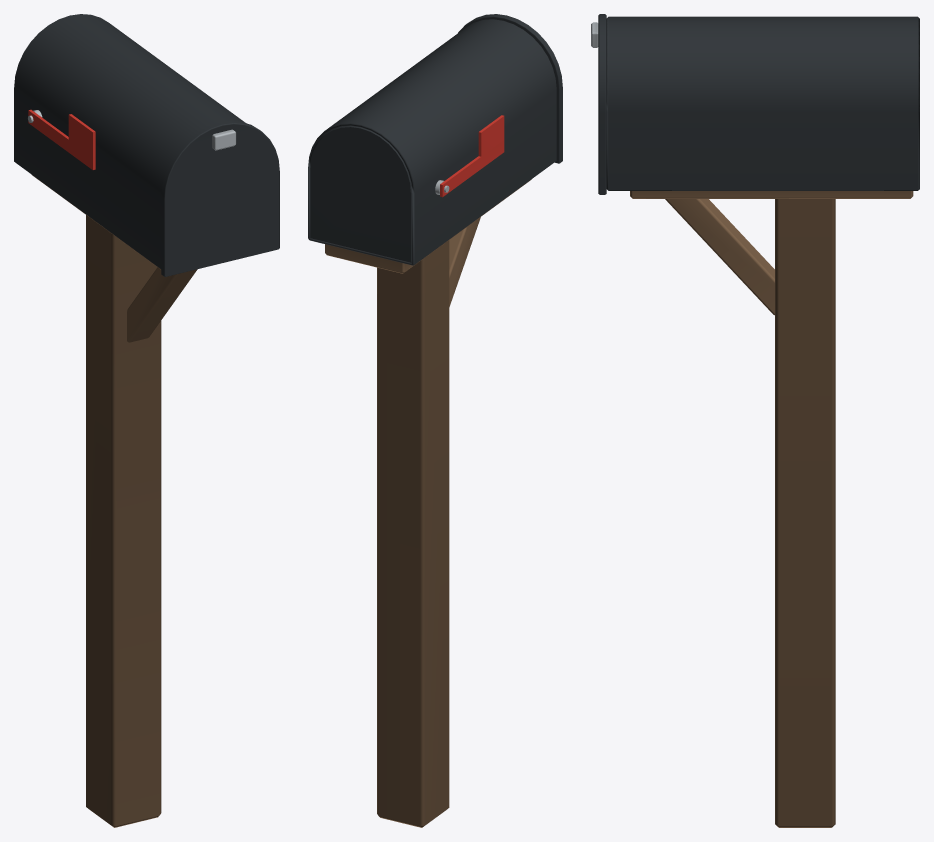
Rendered from letterbox.glb.
3 renders of one model, left to right at view 1: azimuth 30°, elevation 25°; view 2: azimuth 150°, elevation 25°; view 3: azimuth 270°, elevation 25°, orthographic. The views are drawn at different scales.
Visible parts, largest first — view 1: letterbox, door, flag; view 2: letterbox, flag, door; view 3: letterbox, door.
Boxes of the visible parts, x1=… form: letterbox: x1=14, y1=14, x2=245, y2=827; door: x1=161, y1=121, x2=279, y2=276; flag: x1=28, y1=109, x2=95, y2=169; letterbox: x1=308, y1=19, x2=556, y2=827; flag: x1=440, y1=115, x2=504, y2=197; door: x1=458, y1=14, x2=562, y2=163; letterbox: x1=606, y1=16, x2=919, y2=827; door: x1=591, y1=14, x2=606, y2=194.
Bounding box in the file's own units: 0.2205 × 1.3 × 0.488.
